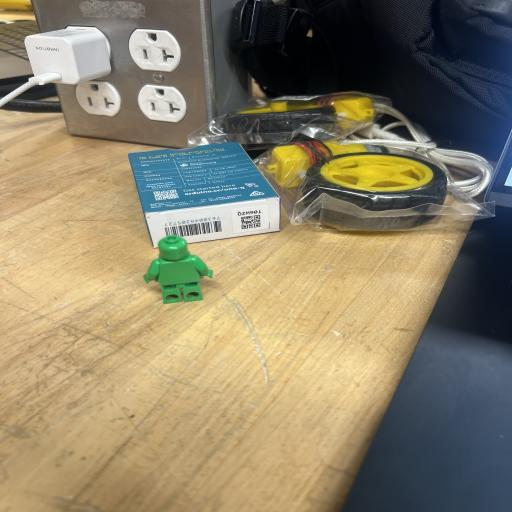green-lego-minifigure-detector: (144, 235, 212, 303)
